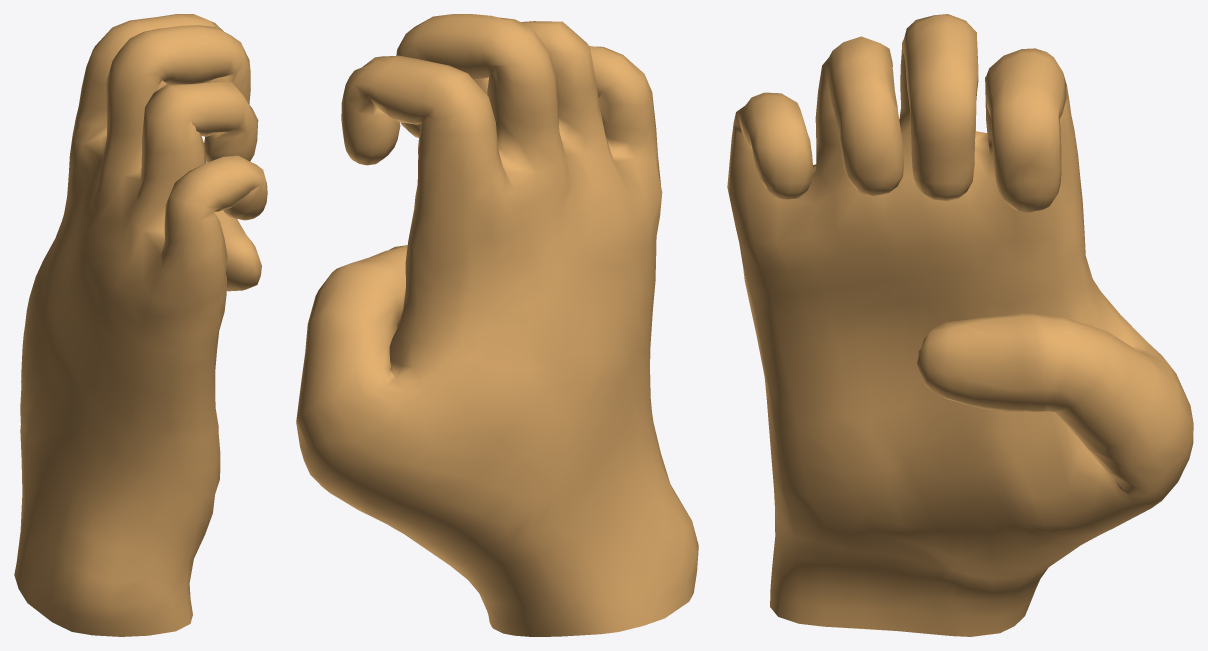
Rendered from LSM_Vocal_E.glb.
The picture shows the model from 3 angles, left to right: view 1: azimuth 30°, elevation 25°; view 2: azimuth 150°, elevation 25°; view 3: azimuth 270°, elevation 25°; orthographic projection. The views are drawn at different scales.
Visible parts, largest first — view 1: hand_L; view 2: hand_L; view 3: hand_L.
Part boxes in pixels (bbox=[...]): hand_L: bbox=[14, 14, 267, 636]; hand_L: bbox=[296, 14, 698, 636]; hand_L: bbox=[727, 14, 1193, 636].
Bounding box in the file's own units: 1.56 × 3.03 × 2.06.
